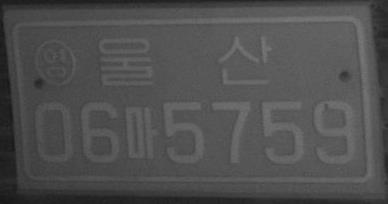0: (32, 100, 74, 164)
5: (260, 98, 306, 165), (161, 99, 205, 165)
6: (79, 100, 120, 164)
7: (210, 99, 253, 164)
9: (312, 98, 358, 165)
마: (124, 104, 156, 160)
영: (33, 39, 76, 87)
울산_D: (98, 34, 272, 84)
